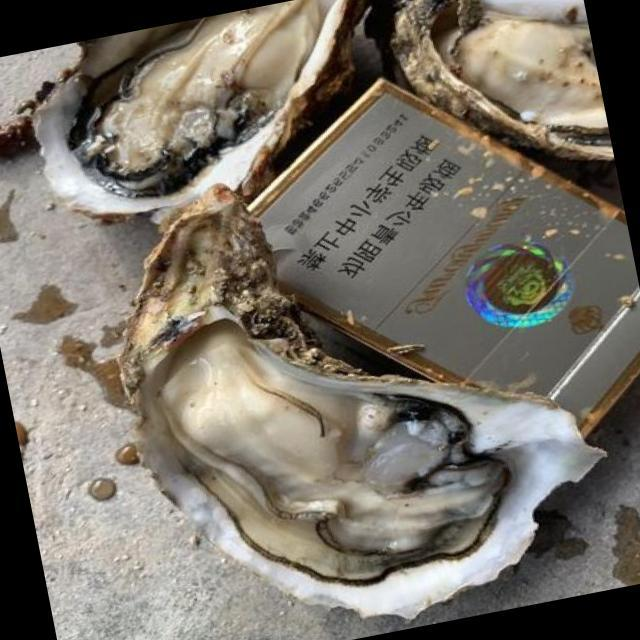Oyster-Open: (126, 186, 603, 617), (34, 0, 370, 221), (388, 0, 616, 201)
